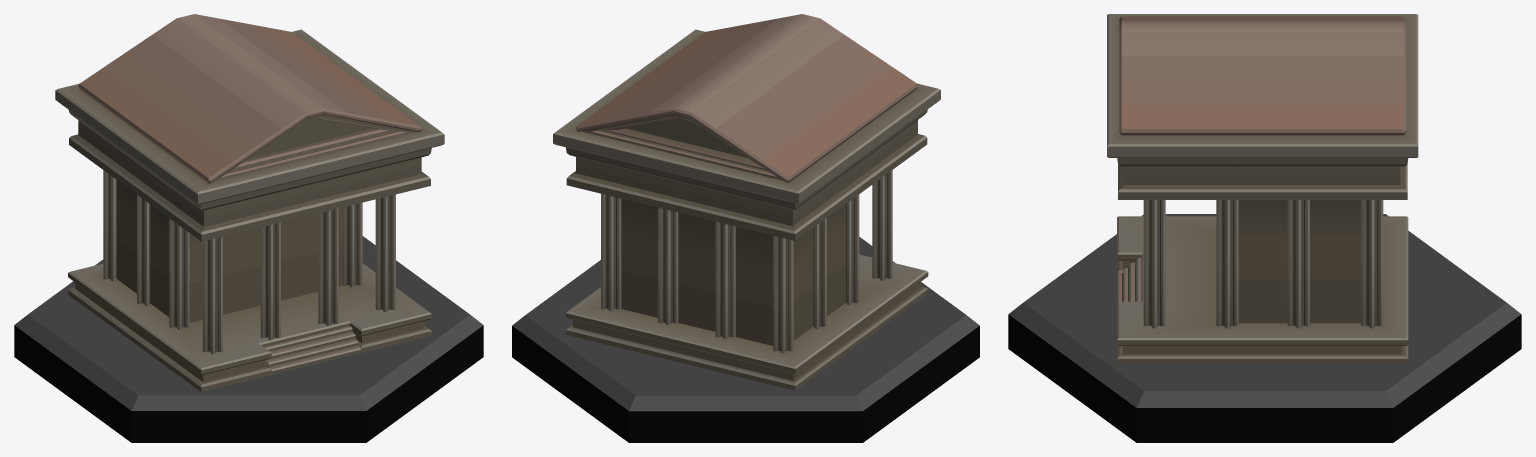
Rendered from romanCastle.fbx.
The picture shows the model from 3 angles, left to right: view 1: azimuth 30°, elevation 25°; view 2: azimuth 150°, elevation 25°; view 3: azimuth 270°, elevation 25°; orthographic projection. The views are drawn at different scales.
Parts seen in each view (by area): view 1: romanCastle; view 2: romanCastle; view 3: romanCastle.
Part boxes in pixels (x1,y1,x2,y2): romanCastle: [14, 14, 483, 442]; romanCastle: [512, 14, 979, 442]; romanCastle: [1008, 14, 1521, 442].
Bounding box in the file's own units: 1.73 × 1.39 × 2.
